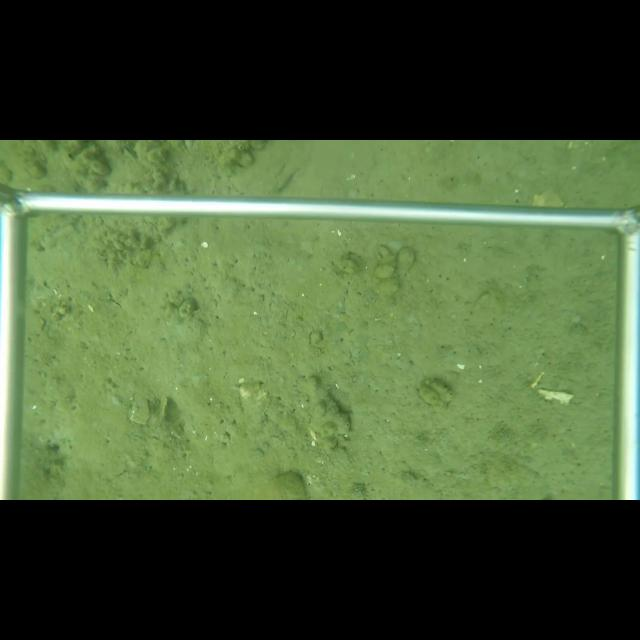Oyster-Closed: (293, 372, 355, 451), (156, 397, 172, 426)
